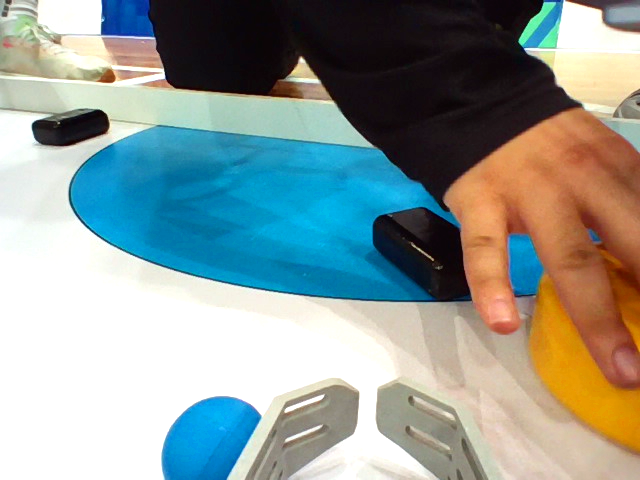black: (354, 204, 466, 300), (31, 106, 119, 150)
blue: (134, 390, 270, 480)
yellow: (517, 238, 640, 461)
